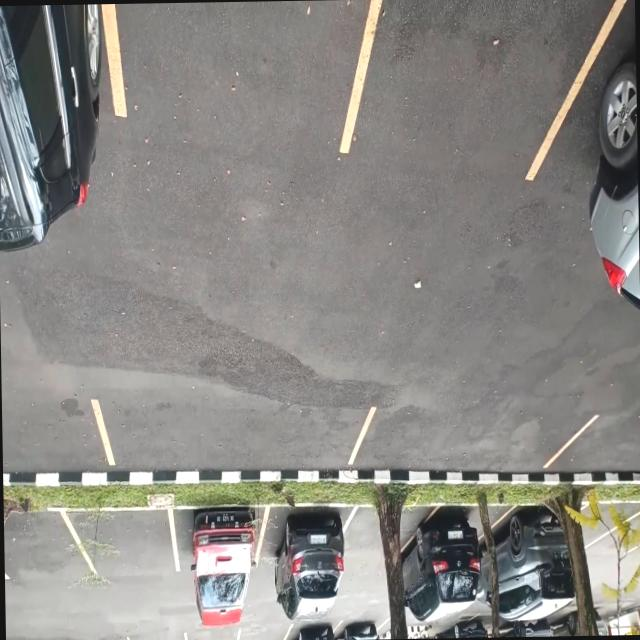car: (494, 505, 573, 617), (406, 505, 483, 617), (175, 510, 265, 604), (262, 506, 348, 602), (283, 624, 339, 640), (336, 623, 388, 640)
free: (350, 0, 601, 172), (113, 0, 375, 139), (100, 394, 364, 480), (358, 399, 572, 482), (1, 394, 106, 482), (78, 511, 178, 582), (4, 511, 82, 586), (565, 412, 640, 488), (235, 626, 288, 640), (186, 628, 241, 640), (126, 630, 188, 640)
